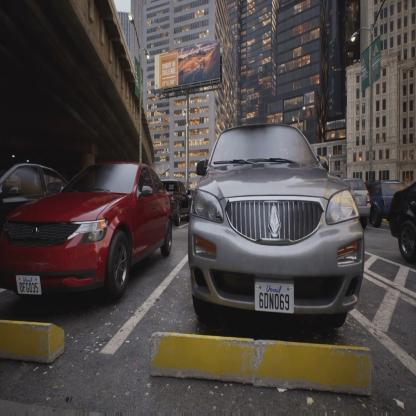License-Plate: (7, 255, 47, 309), (254, 276, 298, 322)
